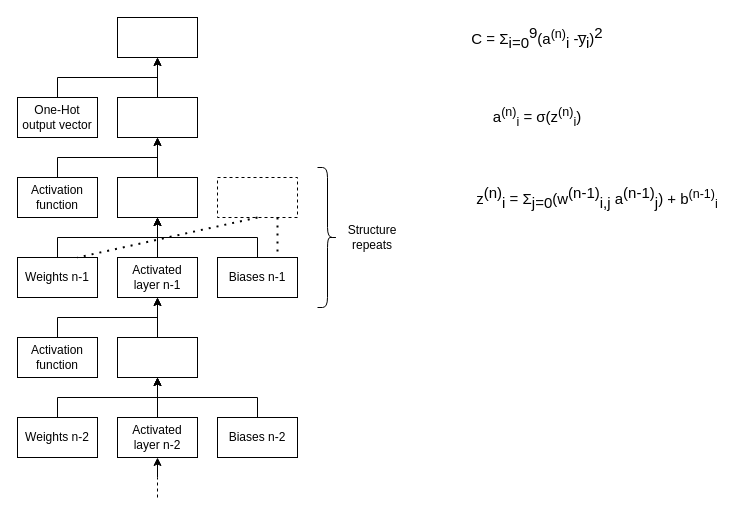
The diagram is 755 pixels wide and 516 high, and some of its shapes have lost their labels. Each missing label, with the centre of its shape:
"Activated layer n" goes at point (157, 117).
"Cost" goes at point (157, 37).
"Layer n" goes at point (157, 197).
"Layer n-1" goes at point (157, 357).
"What we want to change" goes at point (257, 197).
